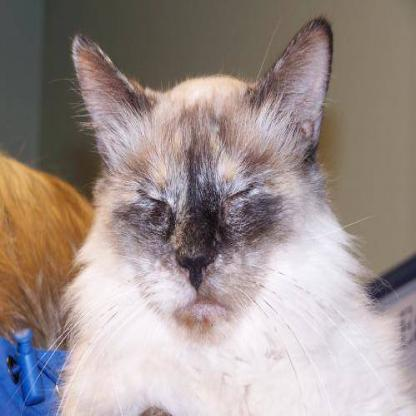cat: (58, 8, 346, 343)
